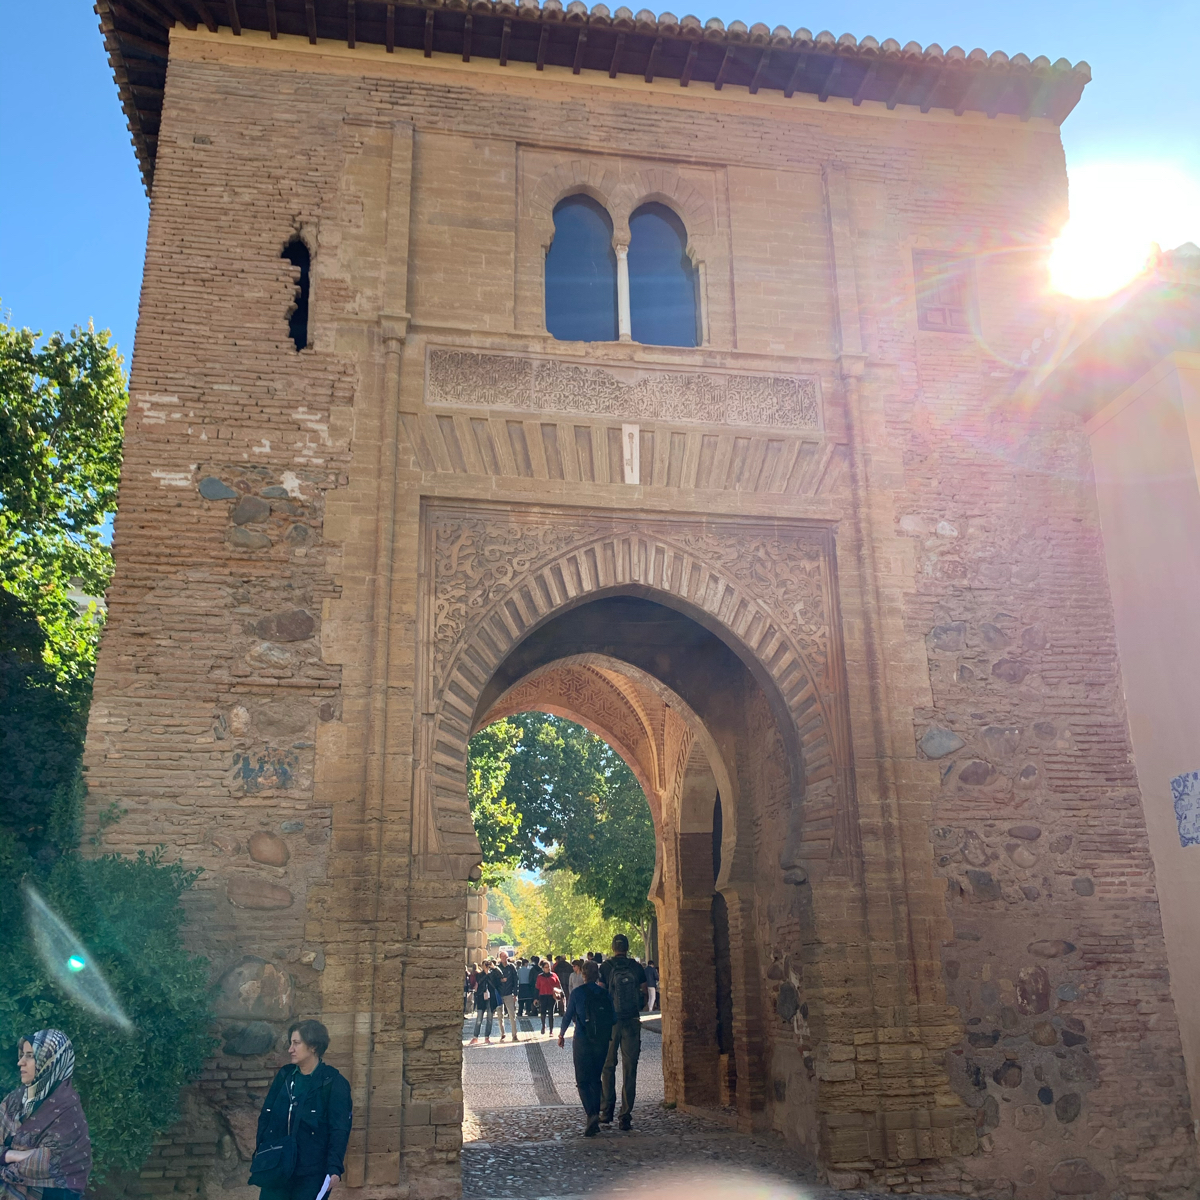arco-herradura: (414, 560, 822, 910), (621, 186, 698, 259), (538, 182, 621, 251)
dintel-adovelado: (393, 403, 838, 503)
